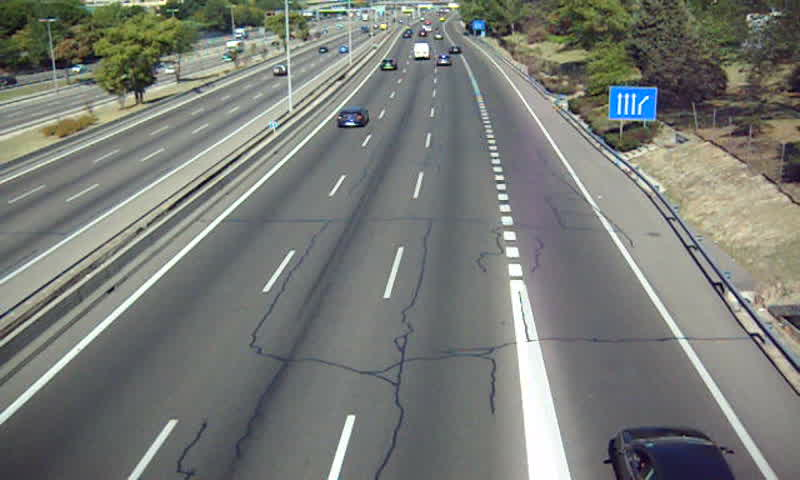car: (335, 108, 369, 130), (379, 59, 398, 71)
van: (413, 42, 431, 61)
